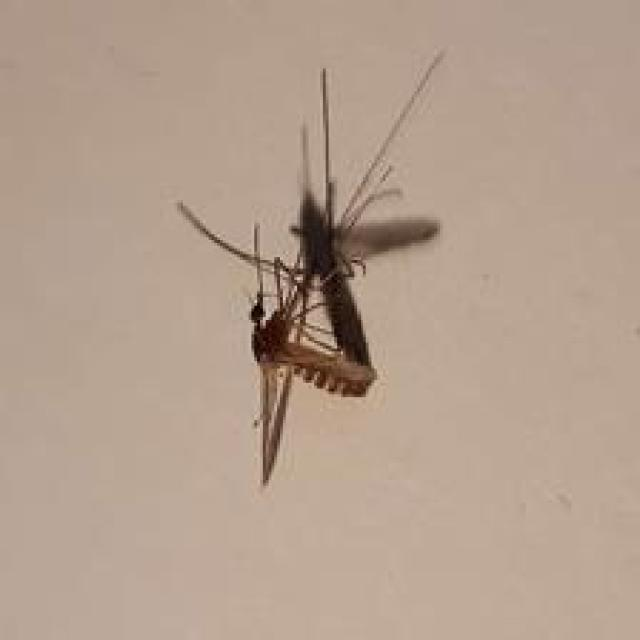Culex: (174, 47, 449, 487)
